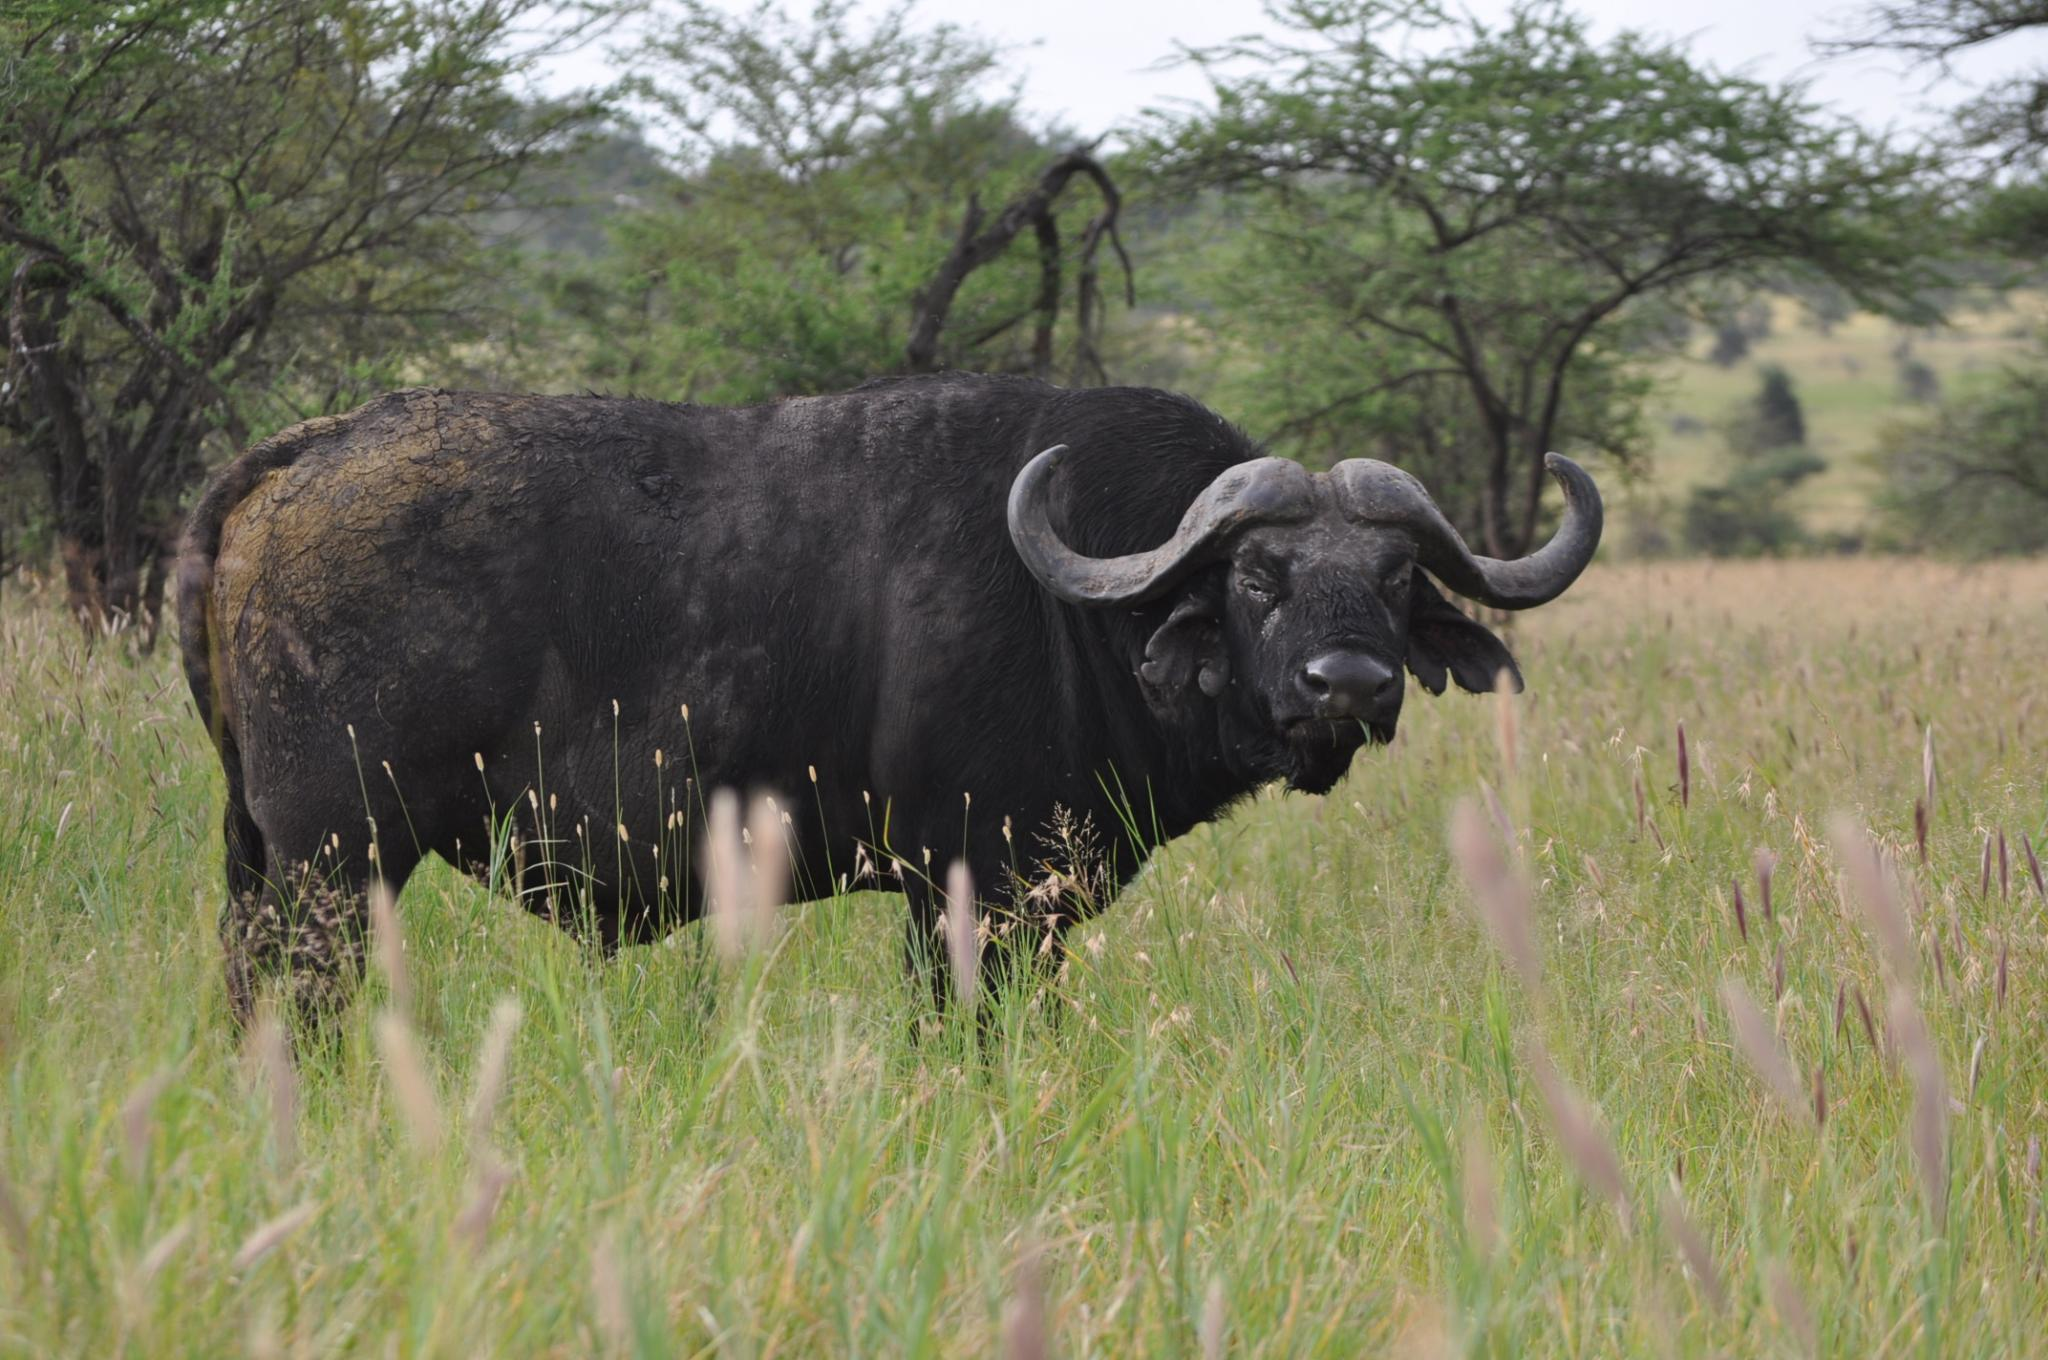Buffalo: (102, 135, 1626, 1236)
